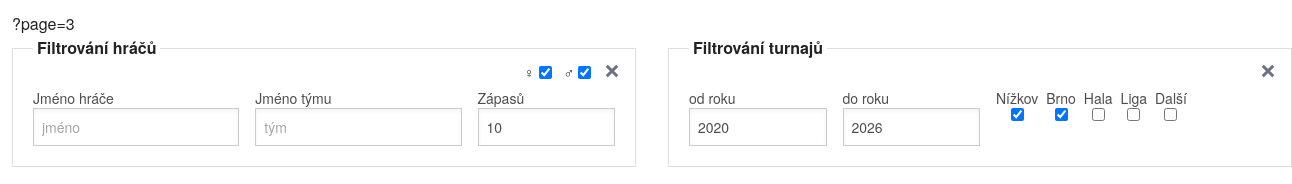
Test case: name search writes q and resets page
Type "jana" into the search field labelled "Jméno hráče". click: coordinates (136, 127)
box: [33,108,239,146]
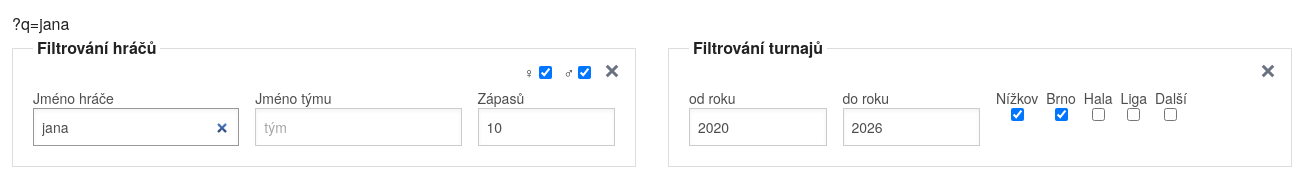
Expected: the text with test id "search" reads "?q=jana", [12,12,69,35]
